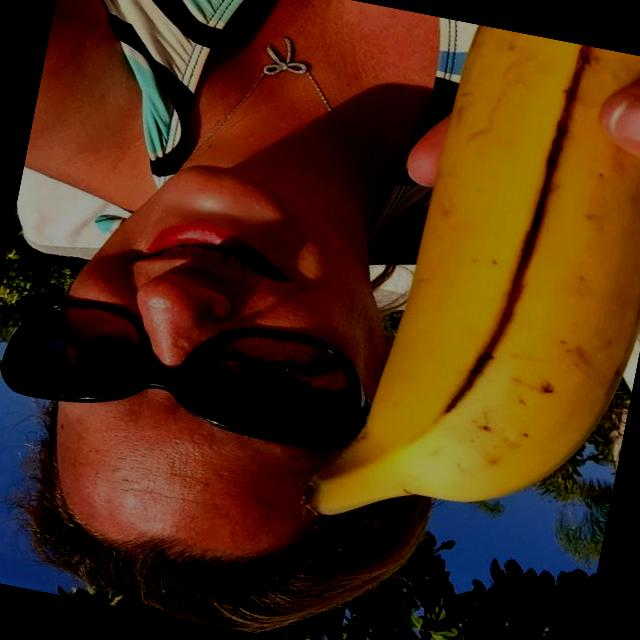Banana: (293, 8, 640, 572)
